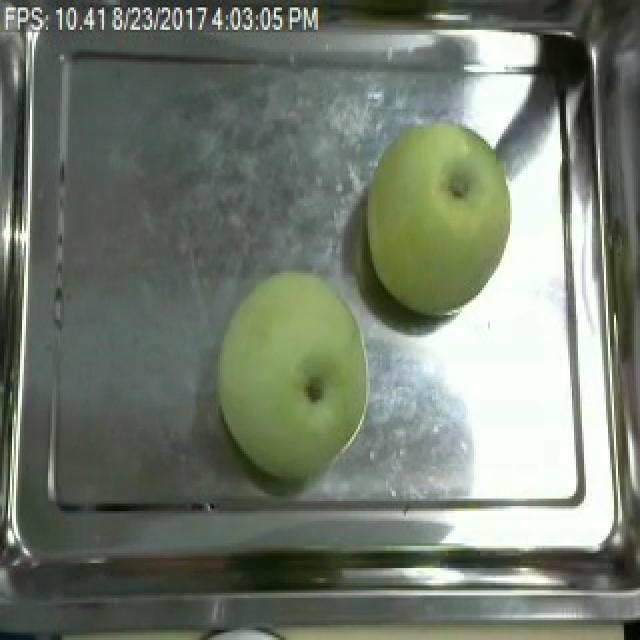50-_ripeness: (364, 115, 532, 332), (206, 272, 378, 476)
